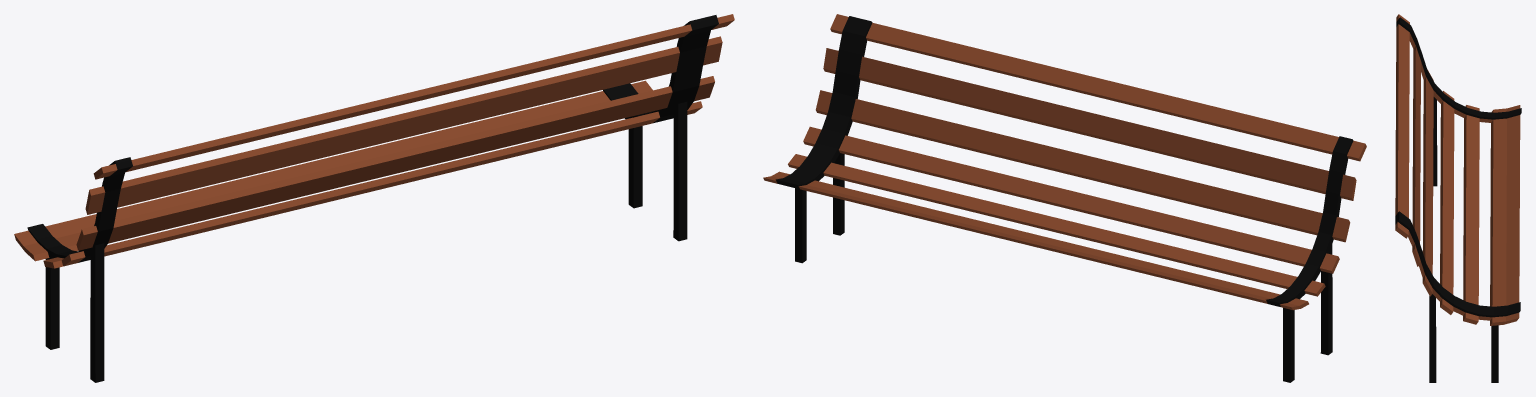
Rendered from Patio_Banca.fbx.
3 views of the same model, side by side, from view 1: azimuth 30°, elevation 25°; view 2: azimuth 150°, elevation 25°; view 3: azimuth 270°, elevation 25° (orthographic). The views are drawn at different scales.
Visible parts, largest first — view 1: Patio_Banca; view 2: Patio_Banca; view 3: Patio_Banca.
Boxes of the visible parts, x1,y1,x2,y2 form: Patio_Banca: (14, 14, 734, 382); Patio_Banca: (763, 14, 1366, 382); Patio_Banca: (1395, 14, 1521, 382).
Size of the model in its own units: 1104 by 399 by 276.
